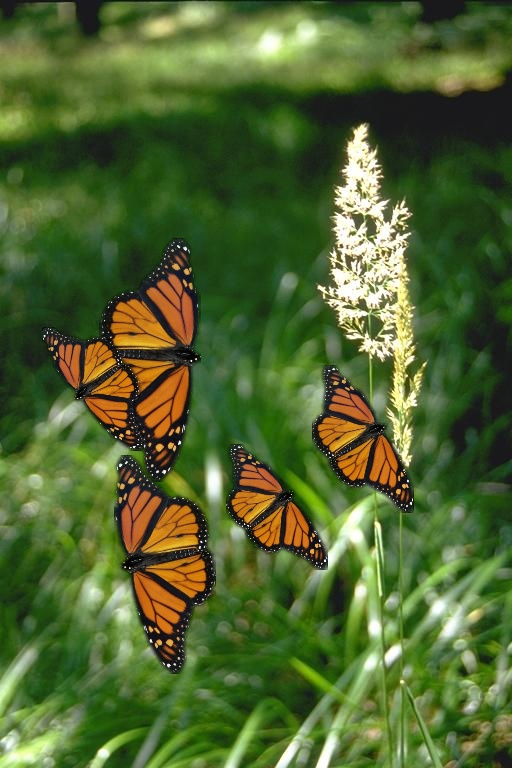danaus_plexippus: (99, 238, 201, 482), (114, 455, 216, 674), (312, 365, 414, 513), (226, 444, 328, 570), (42, 327, 144, 451)
